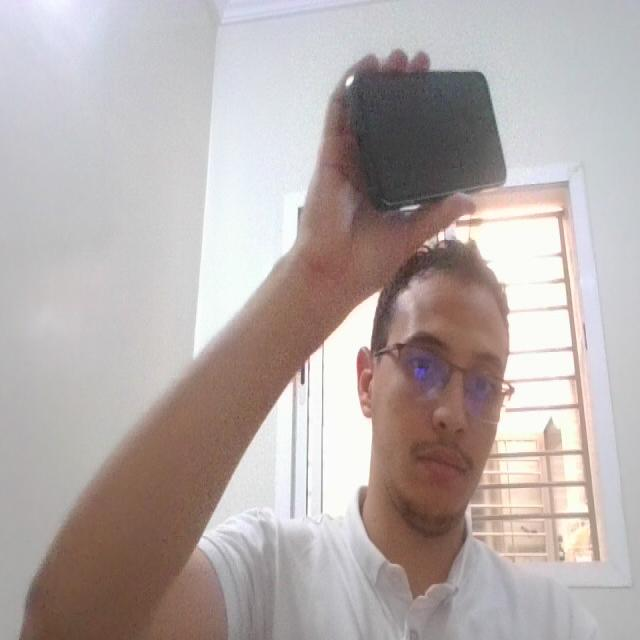phone: (345, 59, 519, 210)
